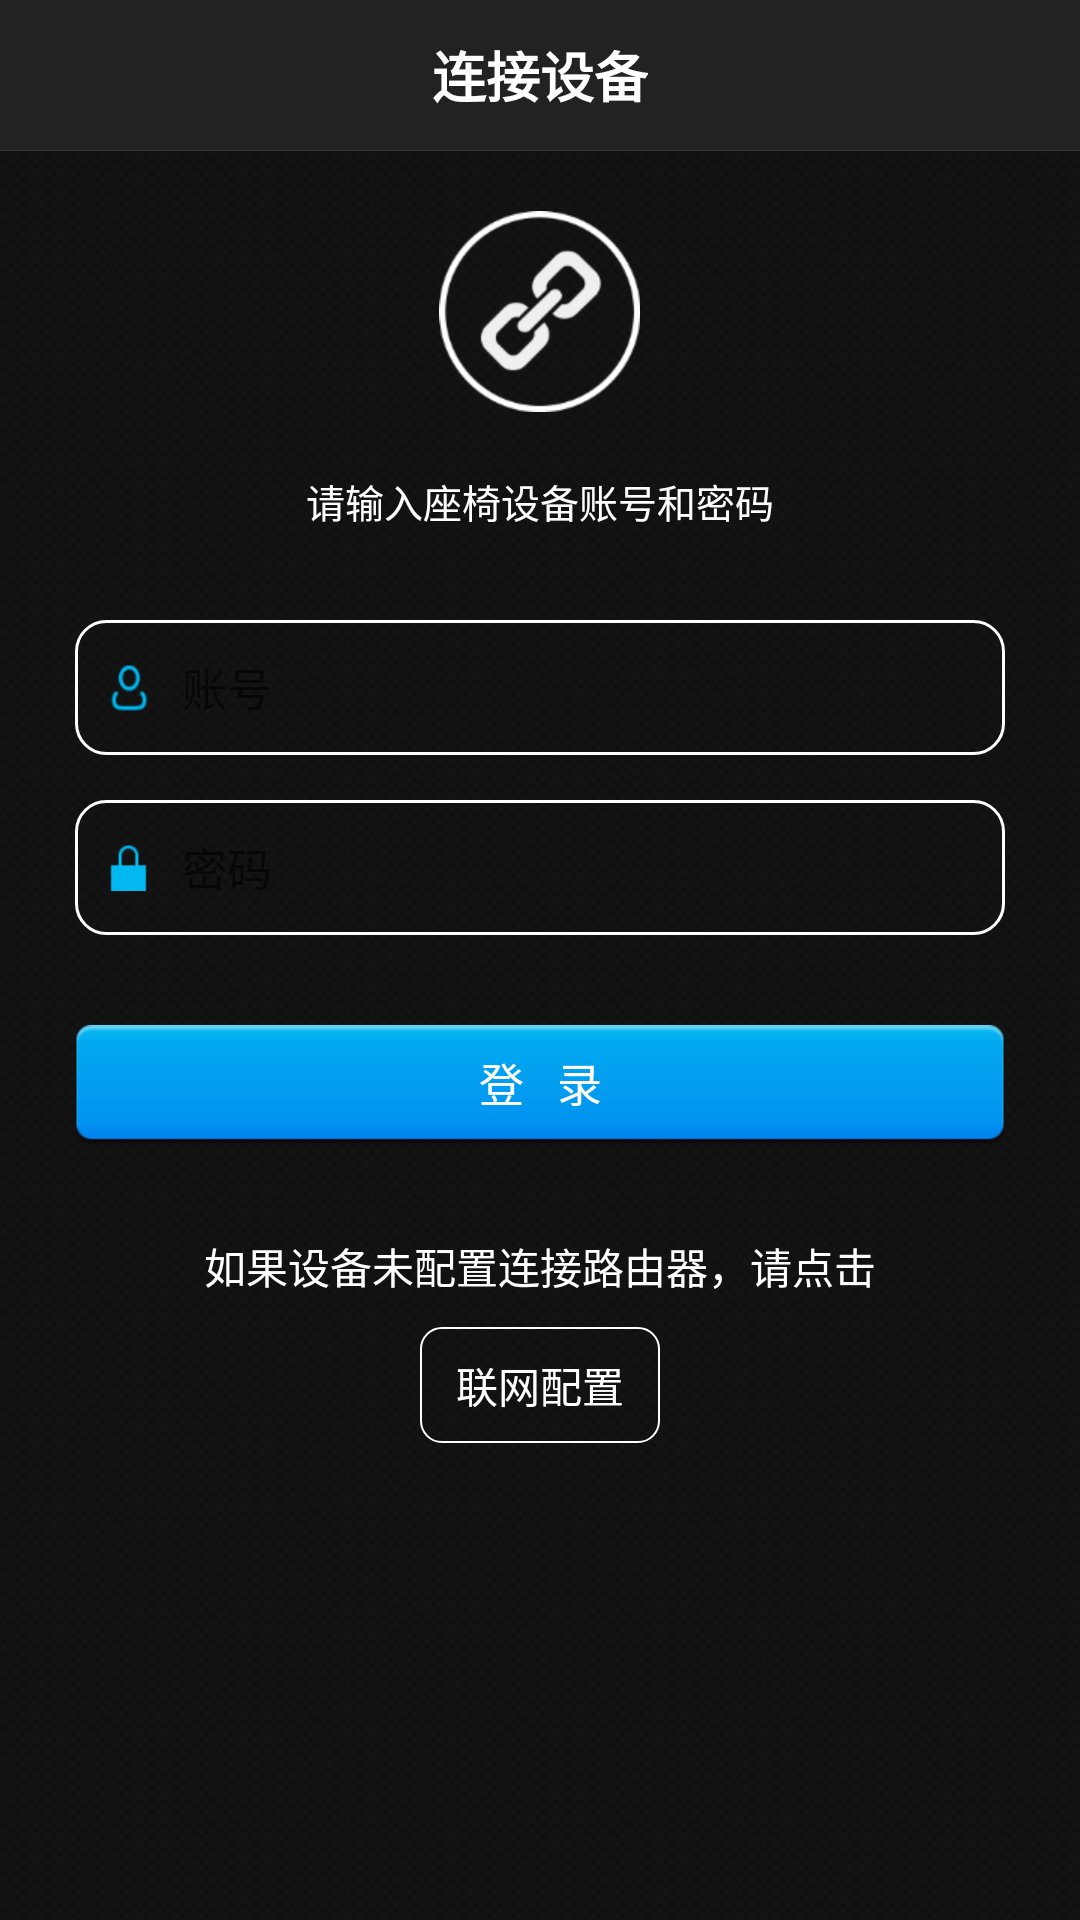

Icon bounding boxes for this 1080px x 1920px phone screenshot, format box=[x1, y1, x2, y2]:
user: box=[111, 665, 148, 711]
